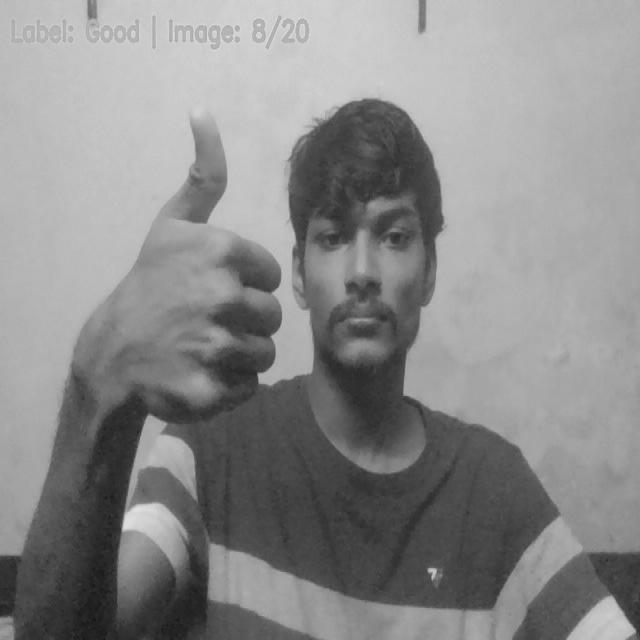Good: (105, 111, 281, 413)
